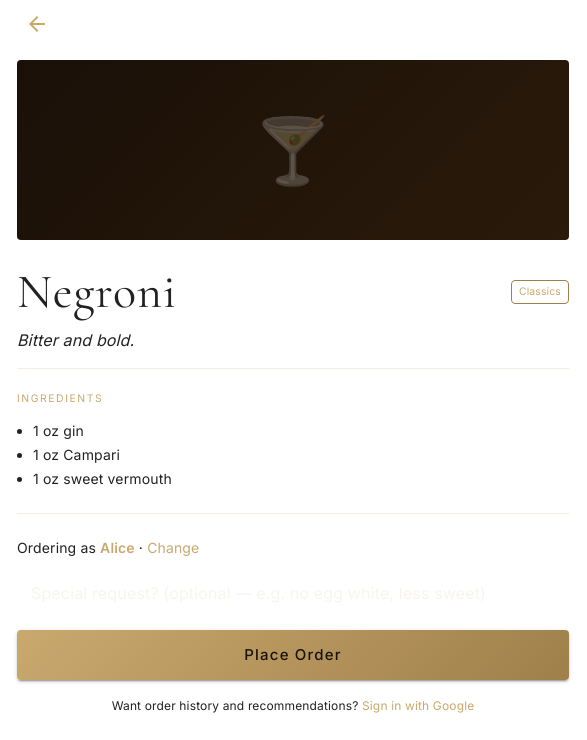
Test case: DrinkDetail › re-expands the name field when Change is clicked
The width and height of the screenshot is (587, 740).
Click the button "Change" at [173, 548], box [147,538,199,558]
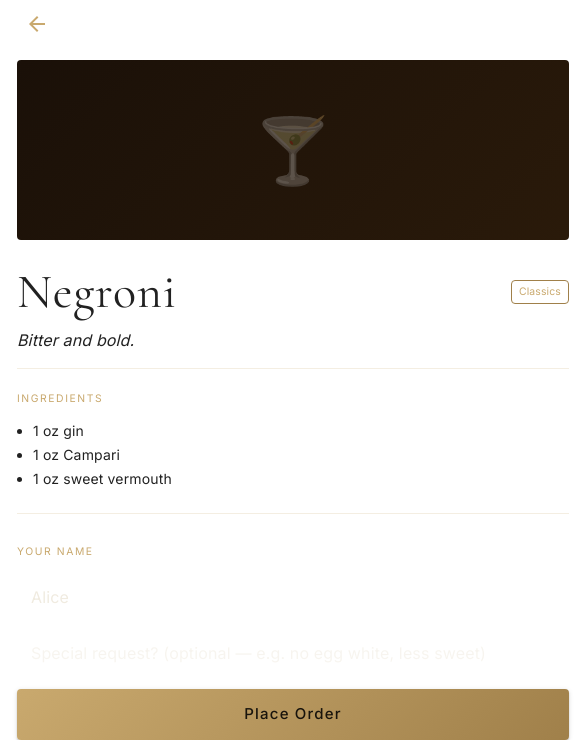
Check: the field with placeholder "So the bartender knows who you are" holds "Alice", box [17,577,569,617]
